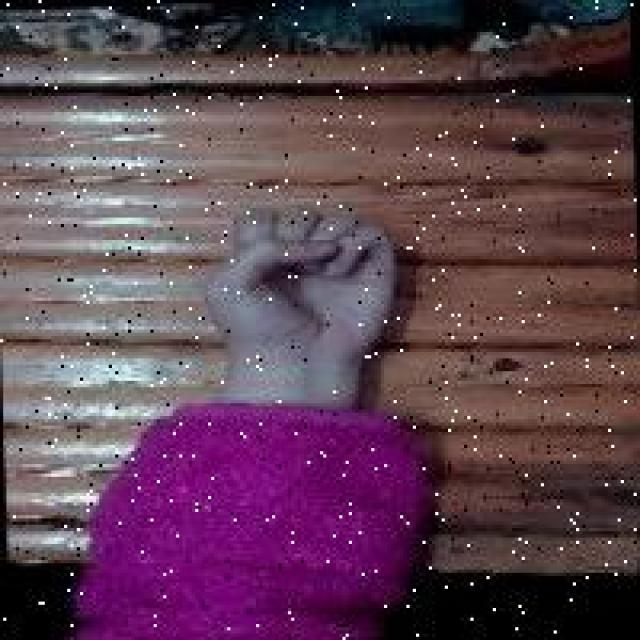E: (194, 200, 398, 366)
